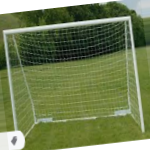goals: (1, 14, 150, 137)
